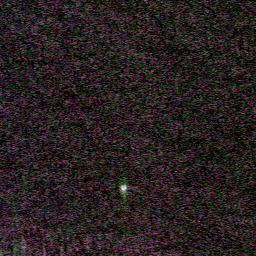Ship: (117, 182, 128, 193)
